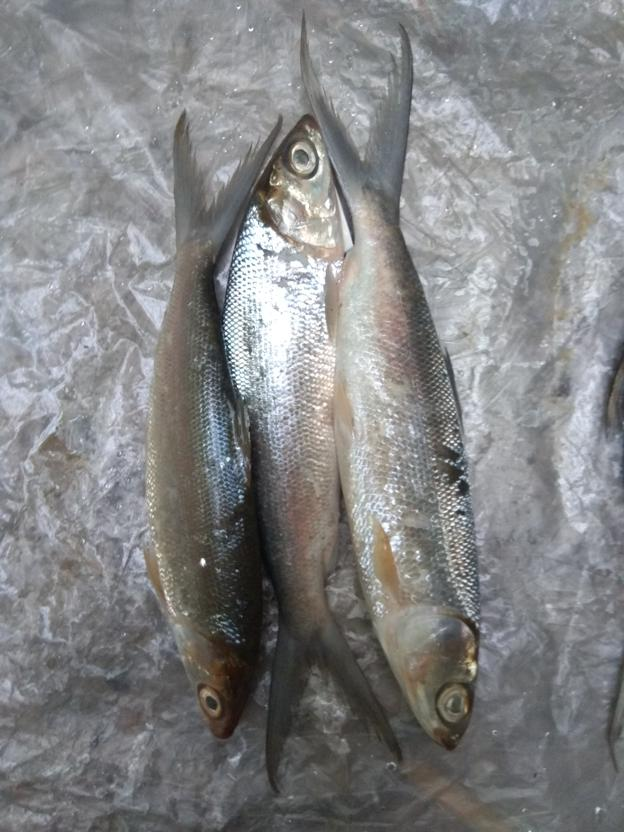Fish head: (375, 606, 480, 751), (251, 110, 346, 256), (172, 626, 265, 740)
Fish tail: (264, 608, 405, 797), (298, 8, 415, 210), (170, 110, 283, 269)
